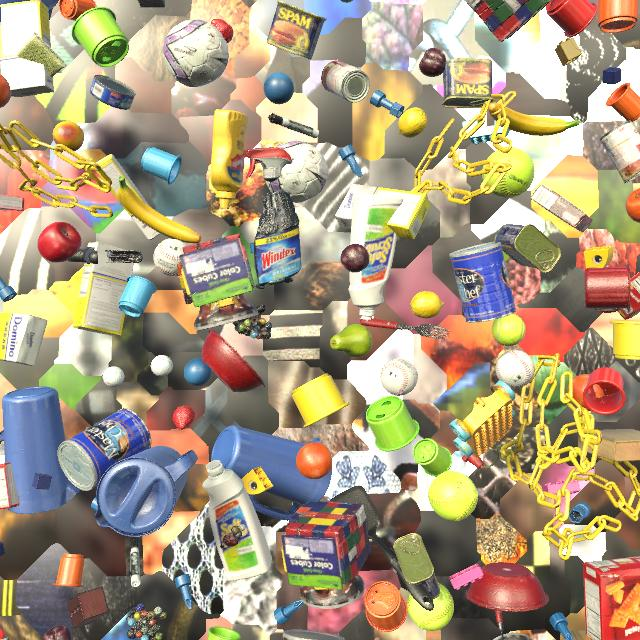ycb_002_master_chef_can: (57, 408, 151, 491), (449, 242, 517, 323)
ycb_003_cracker_box: (583, 556, 640, 640), (617, 272, 640, 320)
ycb_004_sugar_box: (72, 242, 134, 336), (96, 154, 160, 240), (335, 184, 431, 240), (0, 0, 54, 97), (0, 313, 48, 366)
ycb_005_tomato_soup_can: (600, 121, 640, 183), (321, 60, 370, 103), (0, 637, 10, 640)
ycb_006_mustard_bottle: (211, 109, 248, 209)
ycb_007_tuna_fish_can: (90, 75, 136, 110)
ycb_008_pudding_box: (530, 184, 593, 233)
ycb_009_gelatin_box: (0, 462, 20, 509), (0, 194, 25, 211)
ycb_010_potted_meat_can: (266, 0, 327, 60), (494, 224, 561, 273), (394, 533, 440, 599), (442, 58, 495, 108)
ycb_011_banana: (117, 176, 201, 243), (488, 103, 580, 136)
ycb_012_strawberry: (211, 19, 233, 43), (173, 406, 195, 430)
ycb_013_apple: (37, 222, 82, 263)
ycb_014_lemon: (410, 291, 444, 319), (398, 108, 428, 138)
ycb_015_peach: (53, 121, 84, 151)
ycb_016_pear: (330, 324, 373, 358)
ycb_017_orange: (567, 374, 604, 411), (296, 442, 332, 479), (626, 188, 640, 223), (0, 74, 12, 108)
ycb_018_plum: (340, 244, 370, 273), (419, 48, 446, 77), (43, 625, 72, 640)
